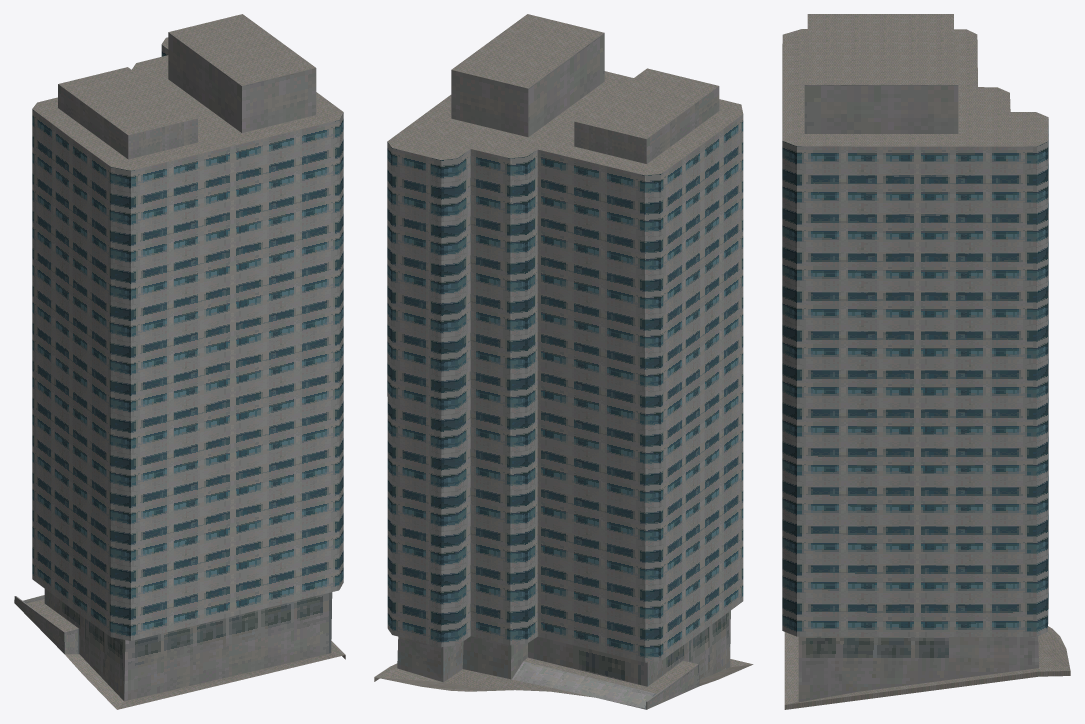
Rendered from lodskyscrapn201.obj.
The picture shows the model from 3 angles, left to right: view 1: azimuth 30°, elevation 25°; view 2: azimuth 150°, elevation 25°; view 3: azimuth 270°, elevation 25°; orthographic projection. The views are drawn at different scales.
Parts seen in each view (by area): view 1: LODskyscrapn201; view 2: LODskyscrapn201; view 3: LODskyscrapn201.
Part boxes in pixels (<box>): LODskyscrapn201: <box>14,14,345,709</box>; LODskyscrapn201: <box>374,14,753,709</box>; LODskyscrapn201: <box>782,14,1070,709</box>.
Size of the model in its own units: 78.53 by 190 by 80.68.
3 materials, 3 textured.
